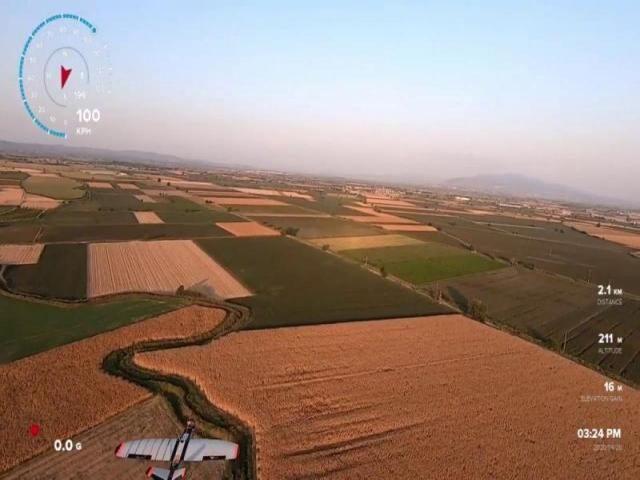hedef: (112, 411, 246, 480)
